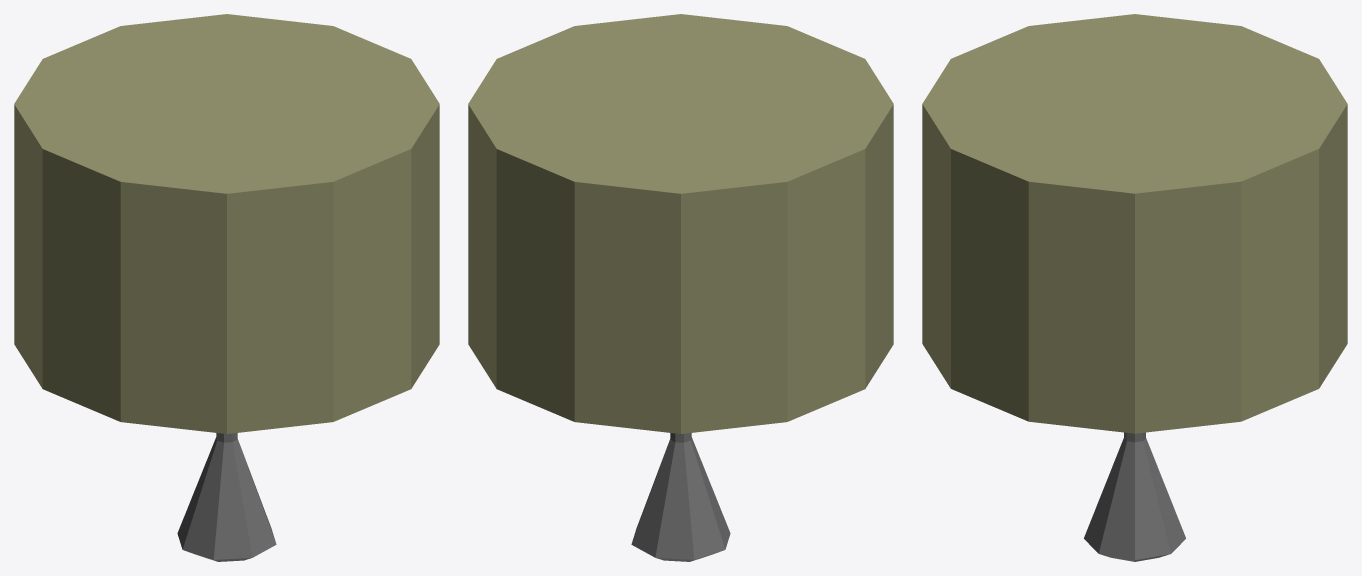
The model's file is table_lamp4.fbx.
3 renders of one model, left to right at view 1: azimuth 30°, elevation 25°; view 2: azimuth 150°, elevation 25°; view 3: azimuth 270°, elevation 25°, orthographic.
Parts seen in each view (by area): view 1: table_lamp4; view 2: table_lamp4; view 3: table_lamp4.
Part boxes in pixels (bbox=[...]): table_lamp4: bbox=[14, 14, 439, 561]; table_lamp4: bbox=[468, 14, 893, 561]; table_lamp4: bbox=[922, 14, 1347, 561].
Size of the model in its own units: 0.5961 by 0.6864 by 0.5961.
